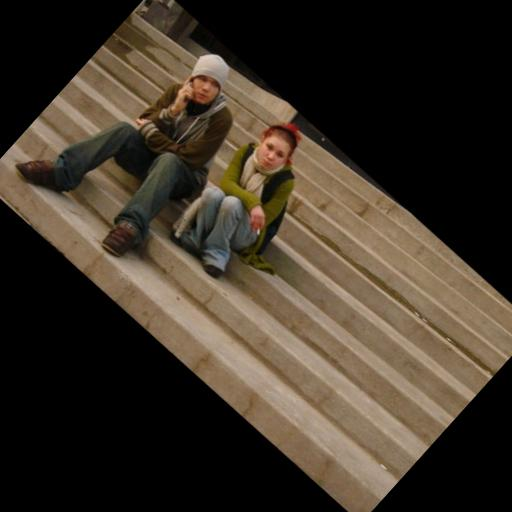stairs: (0, 13, 511, 511)
